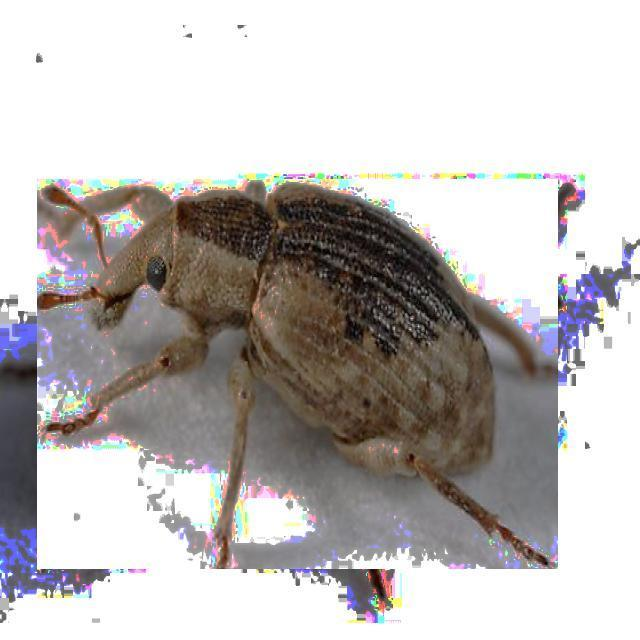rice-bug: (37, 179, 558, 569)
